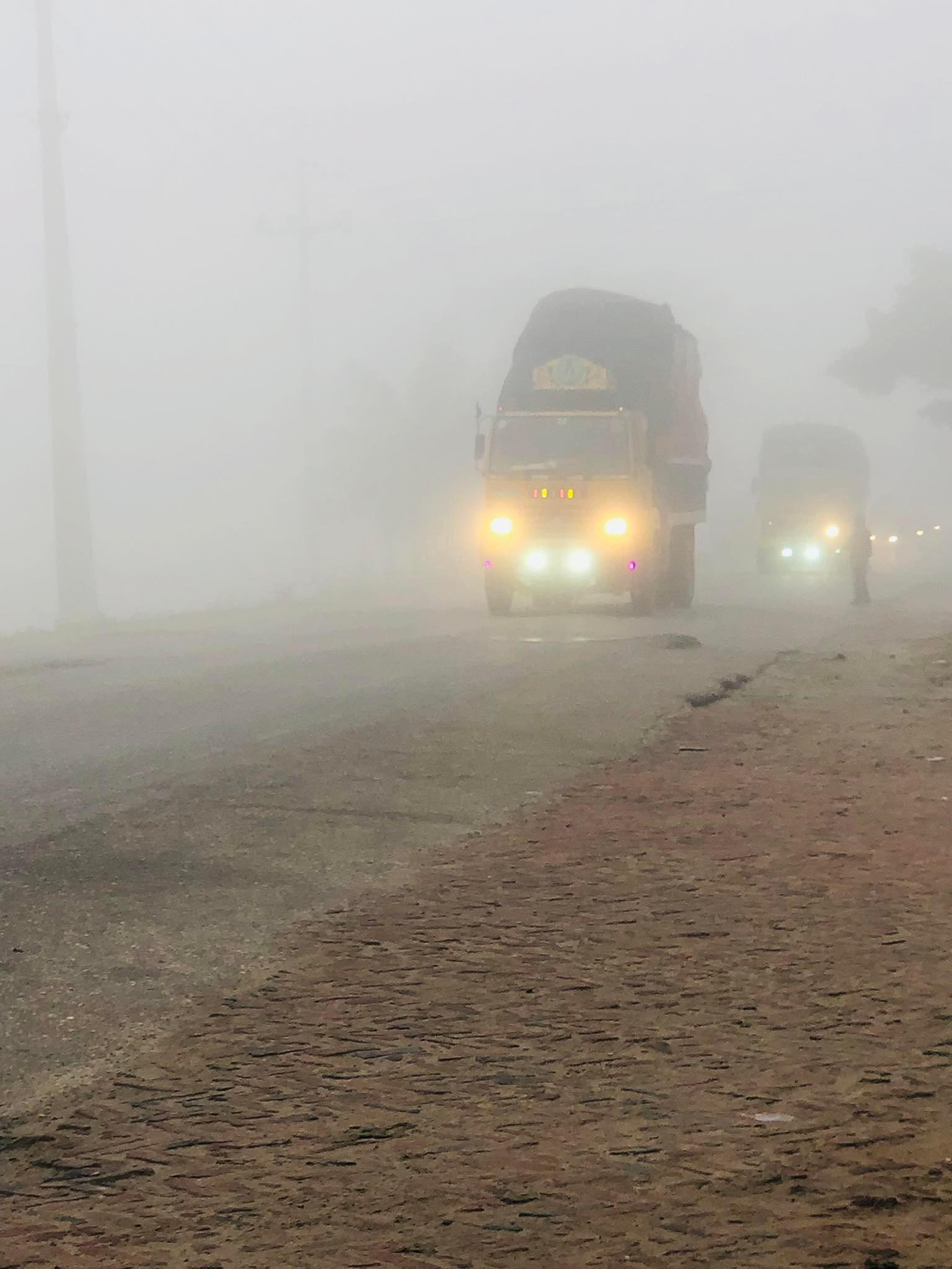Truck: (444, 251, 735, 639), (736, 394, 870, 604)
